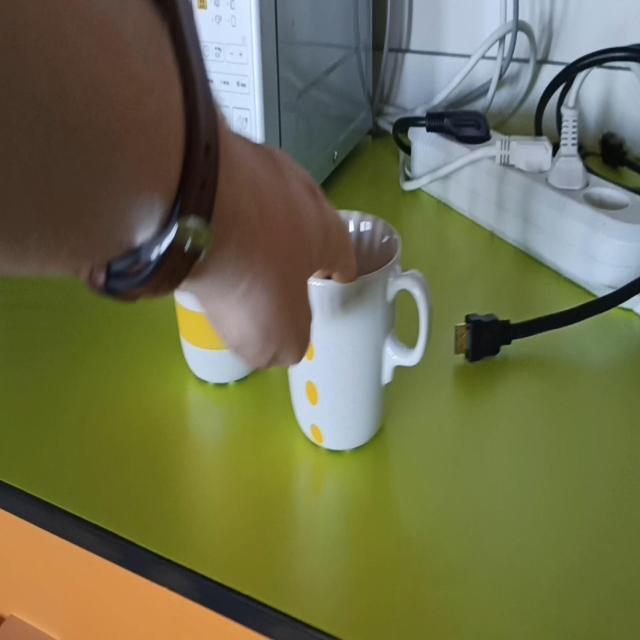cup: (283, 203, 437, 462)
